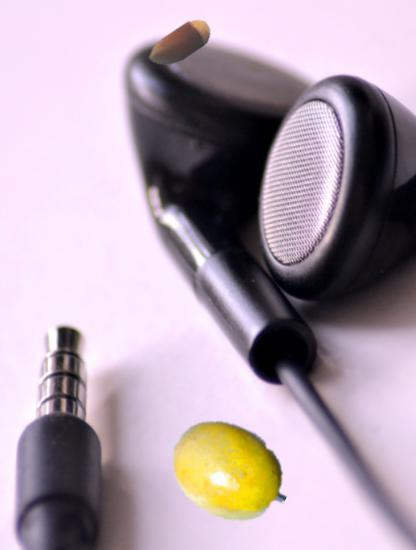Hazelnut: (145, 9, 216, 80)
Maracuja: (168, 410, 292, 534)
